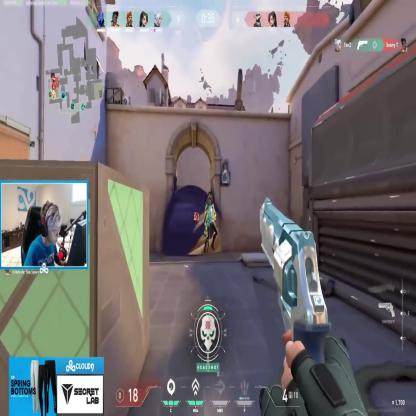enemy: (203, 192, 216, 255)
enemy_head: (208, 195, 212, 205)
